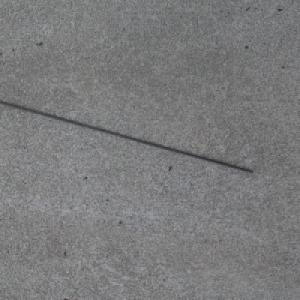LuggagePart: (0, 100, 255, 173)
